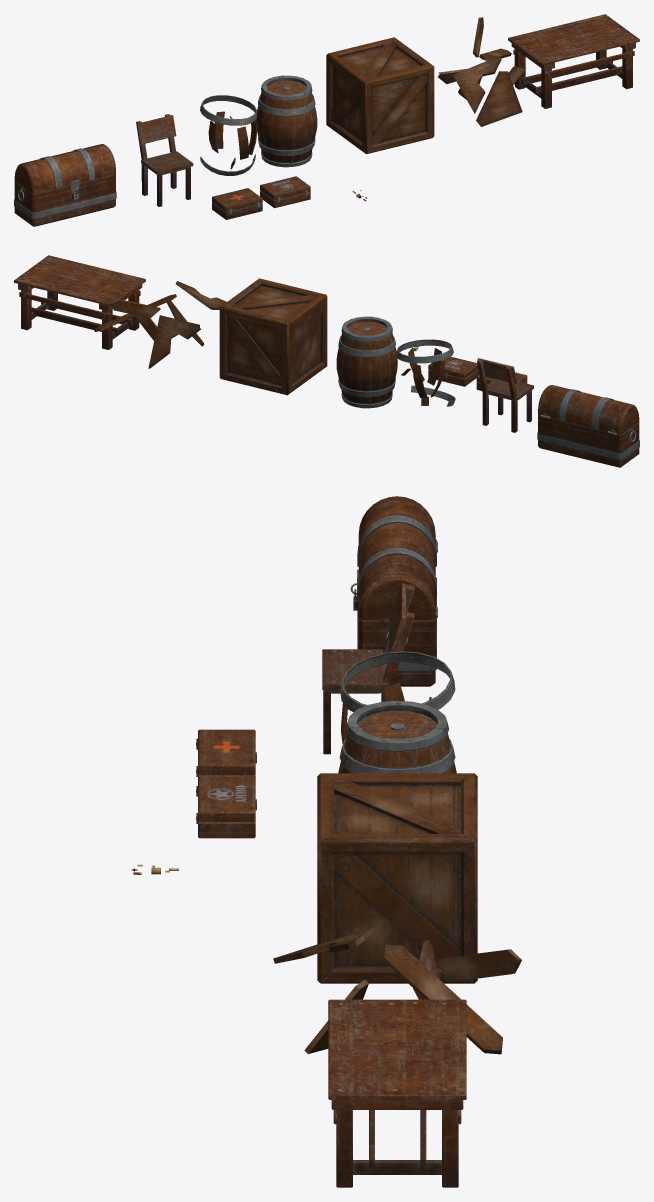
File: dungeon.glb
3 renders of one model, top to bottom at view 1: azimuth 30°, elevation 25°; view 2: azimuth 150°, elevation 25°; view 3: azimuth 270°, elevation 25°, orthographic. The views are drawn at different scales.
Visible parts, largest first — view 1: crate_1, table, barrel, lower, upper, chair, piece_2_2, healthbox, ammobox, piece_1, piece1, piece2_1; view 2: crate_1, table, barrel, lower, upper, chair, piece_4, ammobox, piece1, piece_3, piece_1, piece; view 3: crate_1, table, upper, barrel, chair, ammobox, lower, piece, healthbox, piece_3, piece1, piece_1.
Part boxes in pixels (x1,y1,x2,y2): crate_1: (326, 37, 434, 154); table: (508, 14, 639, 108); barrel: (256, 75, 317, 167); lower: (14, 173, 116, 226); upper: (14, 144, 115, 193); chair: (136, 114, 193, 206); piece_2_2: (476, 71, 522, 126); healthbox: (212, 188, 262, 219); ammobox: (260, 176, 310, 208); piece_1: (453, 56, 501, 113); piece1: (200, 95, 257, 125); piece2_1: (237, 126, 248, 159); crate_1: (219, 278, 327, 395); table: (14, 255, 145, 349); barrel: (336, 316, 397, 408); lower: (537, 414, 639, 467); upper: (538, 385, 639, 434); chair: (477, 358, 533, 432); piece_4: (148, 315, 200, 368); ammobox: (428, 356, 479, 386); piece1: (396, 339, 453, 363); piece_3: (110, 299, 160, 317); piece_1: (175, 281, 226, 309); piece: (94, 294, 176, 331); crate_1: (317, 773, 477, 983); table: (328, 999, 466, 1187); upper: (350, 496, 436, 620); barrel: (338, 700, 456, 773); chair: (322, 583, 414, 754); ammobox: (196, 776, 256, 838); lower: (357, 541, 437, 686); piece: (384, 944, 502, 1054); healthbox: (196, 729, 256, 777); piece_3: (435, 949, 521, 982); piece1: (340, 651, 455, 712); piece_1: (273, 926, 375, 963).
Size of the model in its own units: 1251 by 165 by 351.
Materials: 8 (8 with a texture image).
